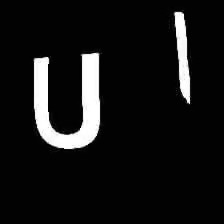LTR_U: (28, 44, 105, 150)
